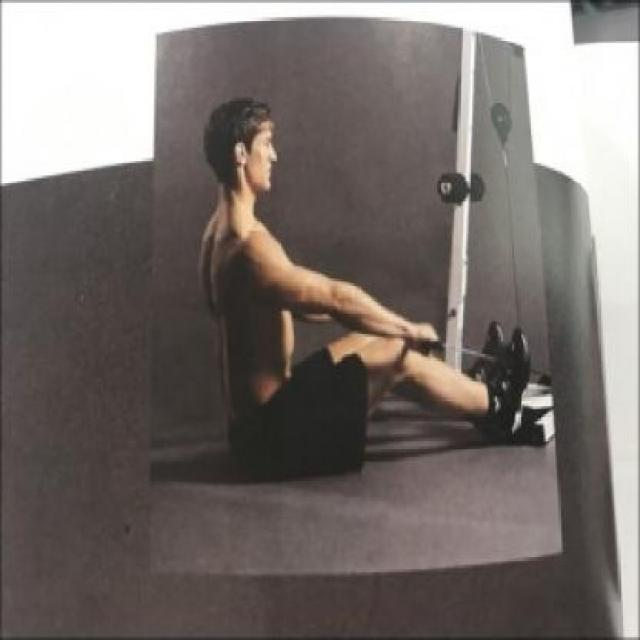Seated Cable Rows: (129, 0, 640, 552)
